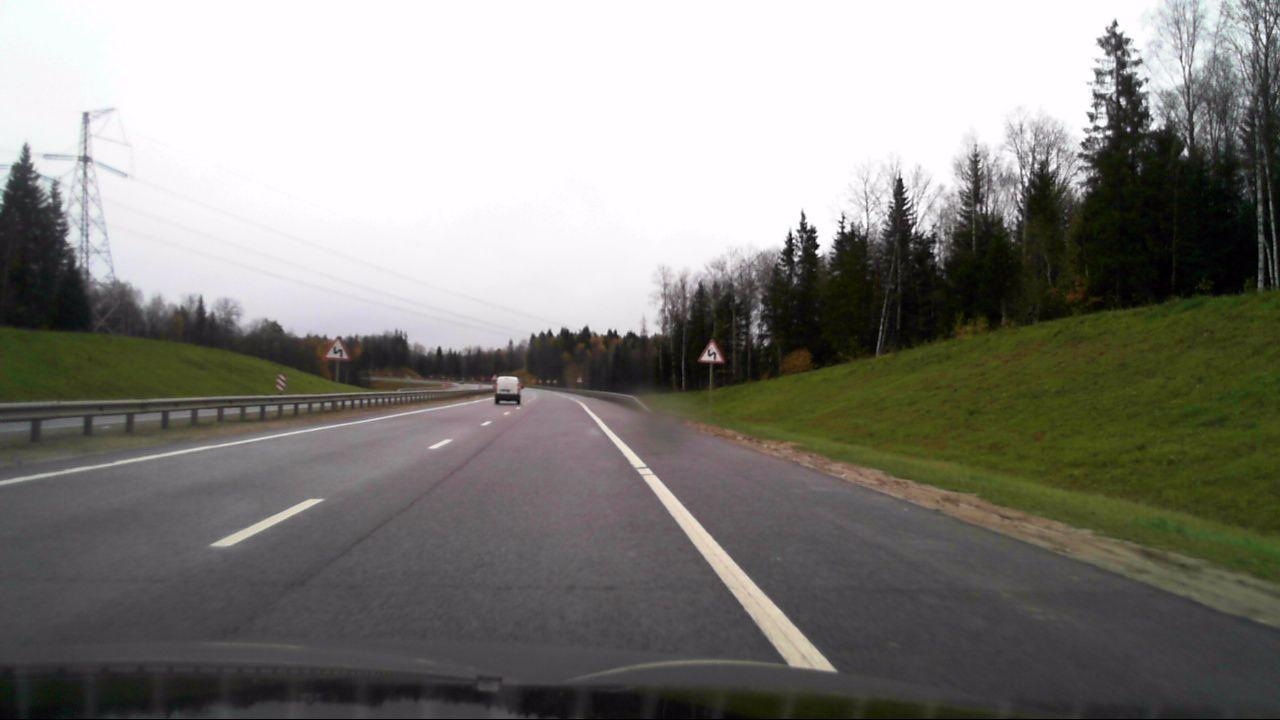1_12_2: (698, 339, 724, 363), (324, 336, 349, 359)
